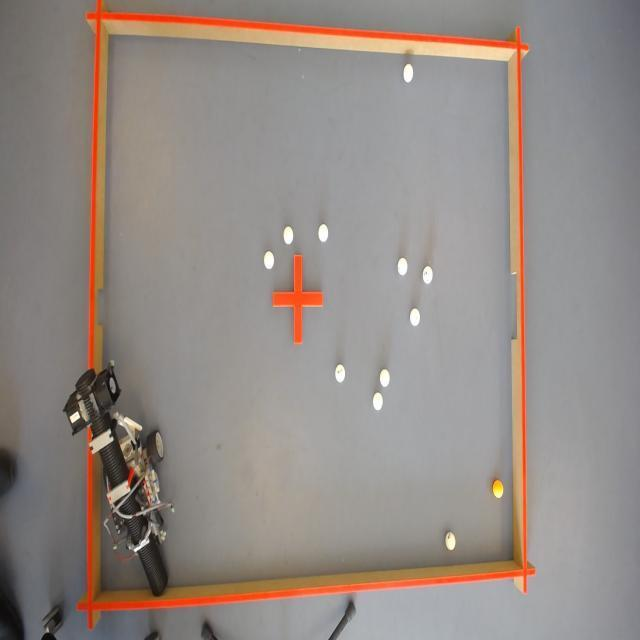orange: (493, 478, 506, 498)
robot: (61, 366, 176, 594)
white: (282, 224, 294, 245), (444, 533, 457, 552), (263, 251, 275, 271), (316, 222, 328, 242), (420, 264, 432, 284), (398, 258, 410, 278), (402, 62, 414, 82), (334, 363, 346, 382), (371, 392, 382, 412), (379, 369, 391, 387), (410, 306, 420, 326)
